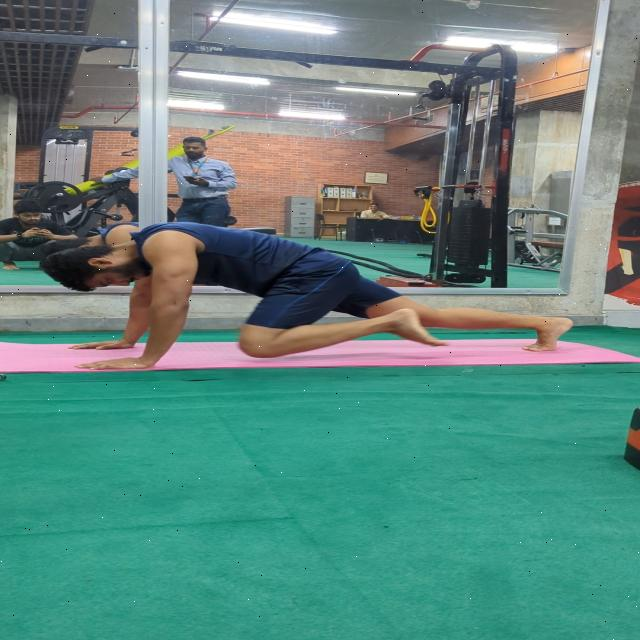Normal_MountainClimbers: (23, 208, 590, 372)
